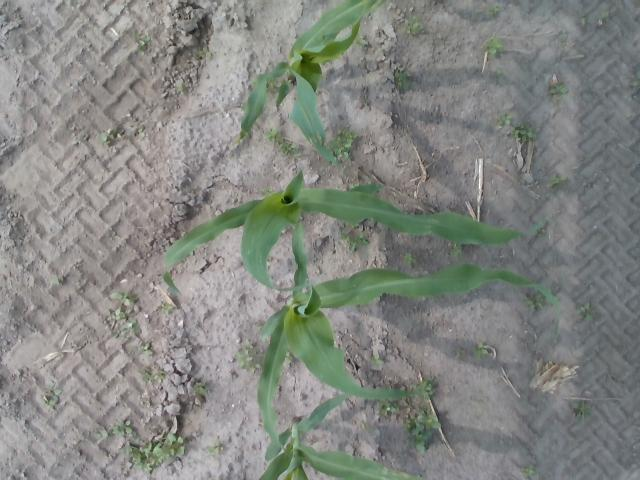Maize: (258, 220, 558, 454), (164, 171, 555, 294), (240, 6, 374, 189), (258, 390, 420, 480)
Weeds: (126, 434, 184, 470), (404, 412, 440, 455), (329, 133, 356, 156), (341, 230, 369, 250), (110, 292, 130, 314), (516, 124, 536, 142), (572, 402, 592, 418), (394, 71, 409, 91), (112, 420, 133, 434), (195, 380, 211, 396), (580, 303, 593, 322), (547, 174, 564, 187), (132, 344, 152, 355), (240, 349, 252, 367), (381, 402, 396, 416), (263, 131, 281, 142), (528, 295, 542, 309), (407, 21, 422, 34), (424, 381, 436, 397), (488, 38, 500, 54), (46, 389, 62, 401), (119, 318, 138, 328), (139, 34, 149, 52), (110, 309, 126, 320), (142, 373, 165, 380), (404, 253, 416, 266), (281, 142, 295, 153), (244, 338, 253, 355), (199, 46, 211, 57), (550, 86, 566, 94), (450, 244, 460, 256), (498, 114, 510, 124), (478, 343, 487, 356), (523, 466, 534, 476), (160, 304, 172, 313), (252, 360, 260, 372), (216, 442, 223, 454), (102, 132, 112, 140), (360, 38, 370, 46), (372, 358, 384, 364), (491, 6, 499, 14)
